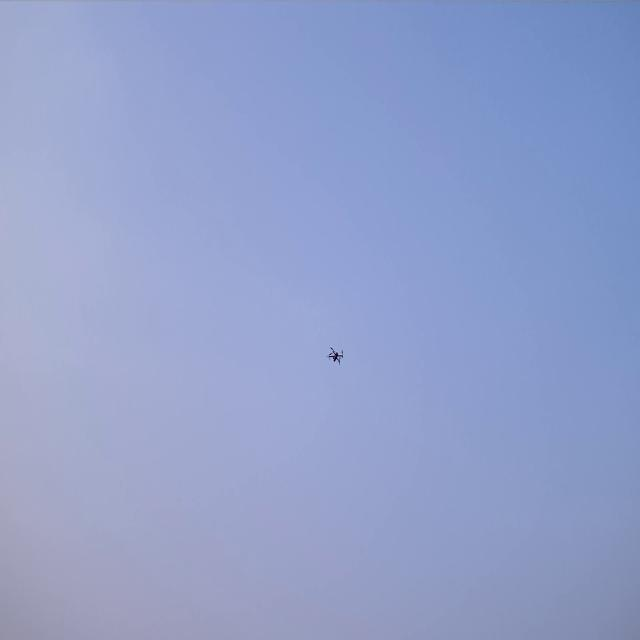UAV: (327, 345, 344, 367)
